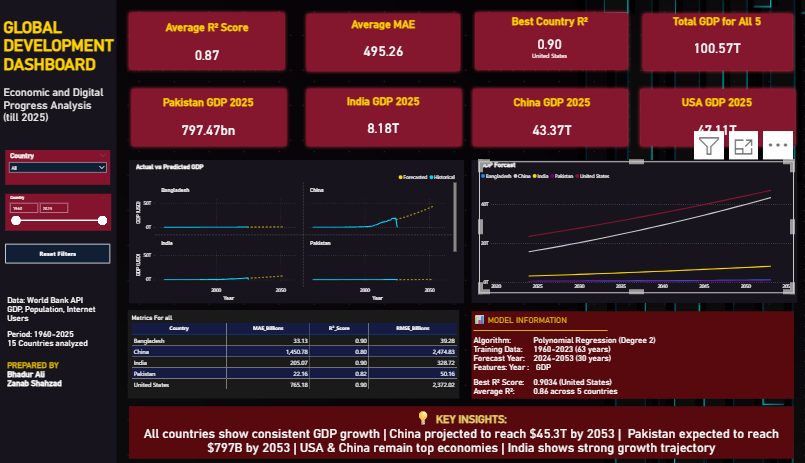

This screenshot's page, from the dashboard's own definition file:
{"tool":"powerbi","page":{"name":"Predicted Dashboard","canvas":[2160,1250],"ordinal":2},"visuals":[{"type":"shape","box":[0,0,313.3,1250],"z":0},{"type":"shape","box":[345,425,893.8,382.5],"z":1000},{"type":"shape","box":[1706.7,25.3,421.1,172.2],"z":2000},{"type":"textbox","box":[7.5,44.2,318.3,296.7],"z":3000},{"type":"slicer","title":"Count","fields":{"Values":["Final Table.country"]},"box":[15.7,399.7,280,92.9],"z":4000},{"type":"slicer","title":"Count","fields":{"Values":["Final Table.year"]},"box":[15.7,518.3,280,97.1],"z":5000},{"type":"actionButton","title":"H","box":[15,650,280,52.5],"z":7000},{"type":"textbox","box":[17.5,782.5,280,267.5],"z":8000},{"type":"shape","box":[1259.6,24.4,426.7,172.2],"z":9000},{"type":"shape","box":[810.4,25.6,428.9,173.3],"z":10000},{"type":"shape","box":[337.9,24.4,435,172.5],"z":11000},{"type":"shape","box":[342.9,226.4,433.3,173.3],"z":12000},{"type":"shape","box":[810,226.7,433.3,173.3],"z":13000},{"type":"shape","box":[1253.3,226.7,433.3,173.3],"z":14000},{"type":"shape","box":[1700,226.7,433.3,173.3],"z":15000},{"type":"cardVisual","title":"Average R² Score","fields":{"Data":["all_countries_forecast.Avg R² Score"]},"box":[416.2,49.7,276.7,150],"z":16000},{"type":"cardVisual","title":"Average MAE","fields":{"Data":["all_countries_forecast.Avg MAE"]},"box":[886.7,40,276.7,150],"z":17000},{"type":"cardVisual","title":"Best Country R²","fields":{"Data":["all_countries_forecast.Best Country R²"]},"box":[1330,33.3,276.7,150],"z":18000},{"type":"cardVisual","title":"Total GDP for All 5","fields":{"Data":["all_countries_forecast.GDP 2053"]},"box":[1776.7,33.3,276.7,150],"z":19000},{"type":"cardVisual","title":"Pakistan GDP 2025","fields":{"Data":["all_countries_forecast.Pakistan GDP 2053"]},"box":[419.5,250.8,276.7,150],"z":20000},{"type":"cardVisual","title":"India GDP 2025","fields":{"Data":["all_countries_forecast.India GDP 2053"]},"box":[886.7,247.8,276.7,150],"z":21000},{"type":"cardVisual","title":"China GDP 2025","fields":{"Data":["all_countries_forecast.China GDP 2053"]},"box":[1336.7,250,276.7,150],"z":22000},{"type":"cardVisual","title":"USA GDP 2025","fields":{"Data":["all_countries_forecast.USA GDP 2053"]},"box":[1776.7,250,276.7,150],"z":23000},{"type":"lineChart","title":"Actual vs Predicted GDP","fields":{"Category":["all_countries_forecast.Year"],"Y":["Avg(all_countries_forecast.GDP)"],"Series":["all_countries_forecast.Type"],"Rows":["all_countries_forecast.Country"]},"box":[360,432.5,865,375],"z":24000},{"type":"shape","box":[1260,426.2,868.8,381.2],"z":25000},{"type":"lineChart","title":"GDP Forcast","fields":{"Category":["all_countries_forecast.Year"],"Y":["Avg(all_countries_forecast.GDP)"],"Series":["all_countries_forecast.Country"]},"box":[1280,430,840,352.5],"z":26000},{"type":"tableEx","title":"Metrics For all","fields":{"Values":["all_metrics.Country","all_metrics.MAE_Billions","all_metrics.R²_Score","all_metrics.RMSE_Billions"]},"box":[342.9,827.1,884.3,235.7],"z":27000},{"type":"textbox","box":[1260,830,860,233.3],"z":27001},{"type":"textbox","box":[347.5,1082.5,1772.5,140],"z":27002}]}

Visuals, with their boxes in screenshot pixels (x1, y1, x2, y2), scaled from the page's 2160x1250 canvas onto the 805x463 screenshot:
shape: [left=0, top=0, right=117, bottom=462]
shape: [left=129, top=157, right=462, bottom=299]
shape: [left=636, top=9, right=793, bottom=73]
textbox: [left=3, top=16, right=121, bottom=126]
"Count" slicer: [left=6, top=148, right=110, bottom=182]
"Count" slicer: [left=6, top=192, right=110, bottom=228]
"H" actionButton: [left=6, top=241, right=110, bottom=260]
textbox: [left=7, top=290, right=111, bottom=389]
shape: [left=469, top=9, right=628, bottom=73]
shape: [left=302, top=9, right=462, bottom=74]
shape: [left=126, top=9, right=288, bottom=73]
shape: [left=128, top=84, right=289, bottom=148]
shape: [left=302, top=84, right=463, bottom=148]
shape: [left=467, top=84, right=629, bottom=148]
shape: [left=634, top=84, right=795, bottom=148]
"Average R² Score" cardVisual: [left=155, top=18, right=258, bottom=74]
"Average MAE" cardVisual: [left=330, top=15, right=434, bottom=70]
"Best Country R²" cardVisual: [left=496, top=12, right=599, bottom=68]
"Total GDP for All 5" cardVisual: [left=662, top=12, right=765, bottom=68]
"Pakistan GDP 2025" cardVisual: [left=156, top=93, right=259, bottom=148]
"India GDP 2025" cardVisual: [left=330, top=92, right=434, bottom=147]
"China GDP 2025" cardVisual: [left=498, top=93, right=601, bottom=148]
"USA GDP 2025" cardVisual: [left=662, top=93, right=765, bottom=148]
"Actual vs Predicted GDP" lineChart: [left=134, top=160, right=457, bottom=299]
shape: [left=470, top=158, right=793, bottom=299]
"GDP Forcast" lineChart: [left=477, top=159, right=790, bottom=290]
"Metrics For all" tableEx: [left=128, top=306, right=457, bottom=394]
textbox: [left=470, top=307, right=790, bottom=394]
textbox: [left=130, top=401, right=790, bottom=453]
